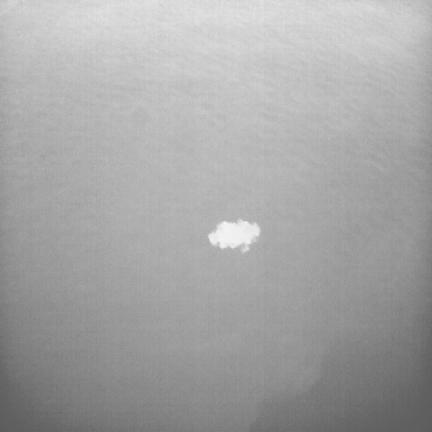flukeprints: (209, 219, 260, 252)
